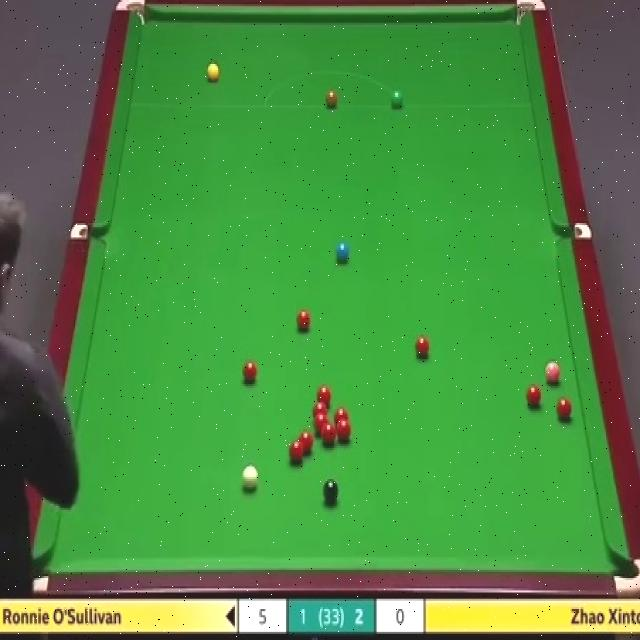black-ball: (322, 478, 339, 503)
blue-ball: (336, 242, 350, 263)
brown-ball: (324, 89, 338, 109)
green-ball: (390, 90, 406, 110)
pink-ball: (544, 361, 562, 385)
red-ball: (526, 382, 542, 409), (555, 396, 572, 421), (288, 440, 305, 463), (414, 334, 430, 358), (242, 360, 258, 384), (296, 308, 311, 333), (313, 410, 328, 434), (316, 384, 331, 406), (337, 418, 352, 440), (300, 432, 314, 454), (333, 407, 349, 425), (321, 425, 336, 444), (312, 402, 328, 419)
white-ball: (242, 465, 258, 490)
yellow-ball: (206, 63, 219, 84)
